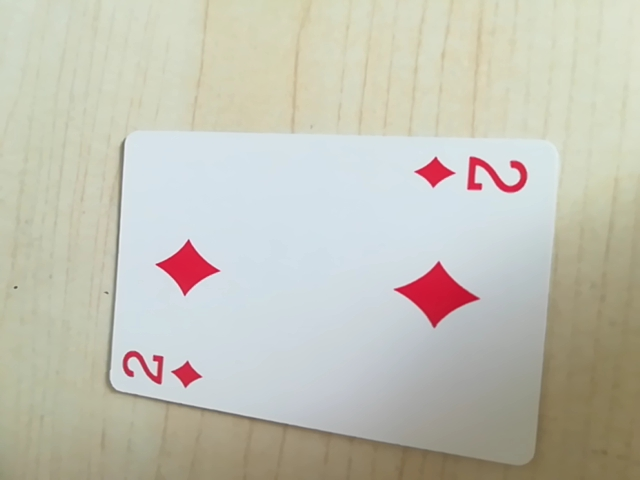fk 2: (409, 150, 536, 202), (117, 340, 211, 395)
